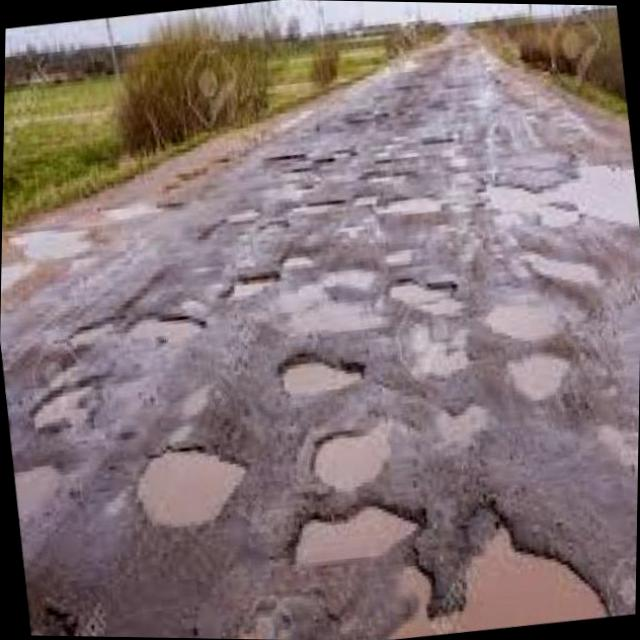Pathole: (393, 534, 607, 639), (136, 449, 245, 528), (295, 510, 415, 563), (312, 426, 388, 489), (275, 352, 364, 397), (32, 370, 98, 427), (507, 352, 567, 400), (486, 306, 548, 346), (228, 270, 277, 303), (151, 314, 202, 343), (392, 267, 458, 286)
